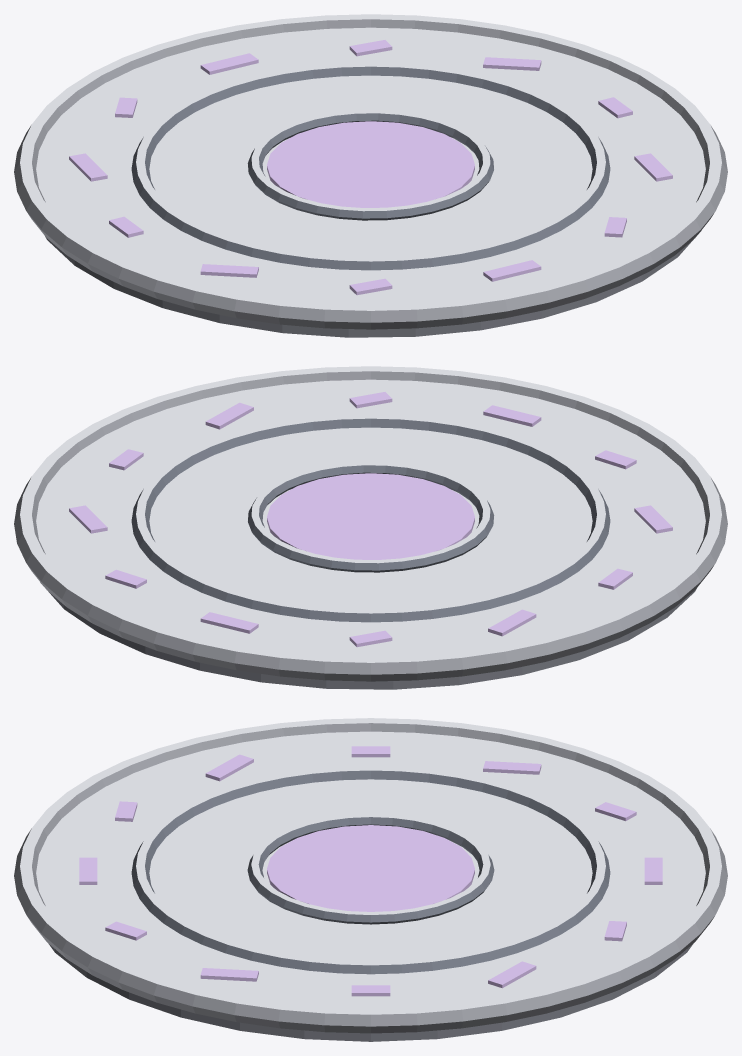
File: PR_Disco_Runas.fbx
3 renders of one model, top to bottom at view 1: azimuth 30°, elevation 25°; view 2: azimuth 150°, elevation 25°; view 3: azimuth 270°, elevation 25°, orthographic.
Visible parts, largest first — view 1: PR_Disco_Runas; view 2: PR_Disco_Runas; view 3: PR_Disco_Runas.
Part boxes in pixels (x1,y1,x2,y2): PR_Disco_Runas: (14, 14, 727, 337); PR_Disco_Runas: (14, 366, 727, 689); PR_Disco_Runas: (14, 718, 727, 1041).
Size of the model in its own units: 4.8 by 0.2433 by 4.8.
